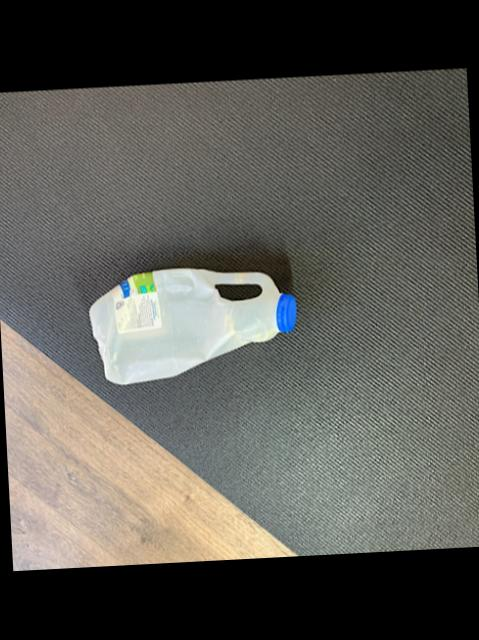plastic: (88, 267, 294, 383)
